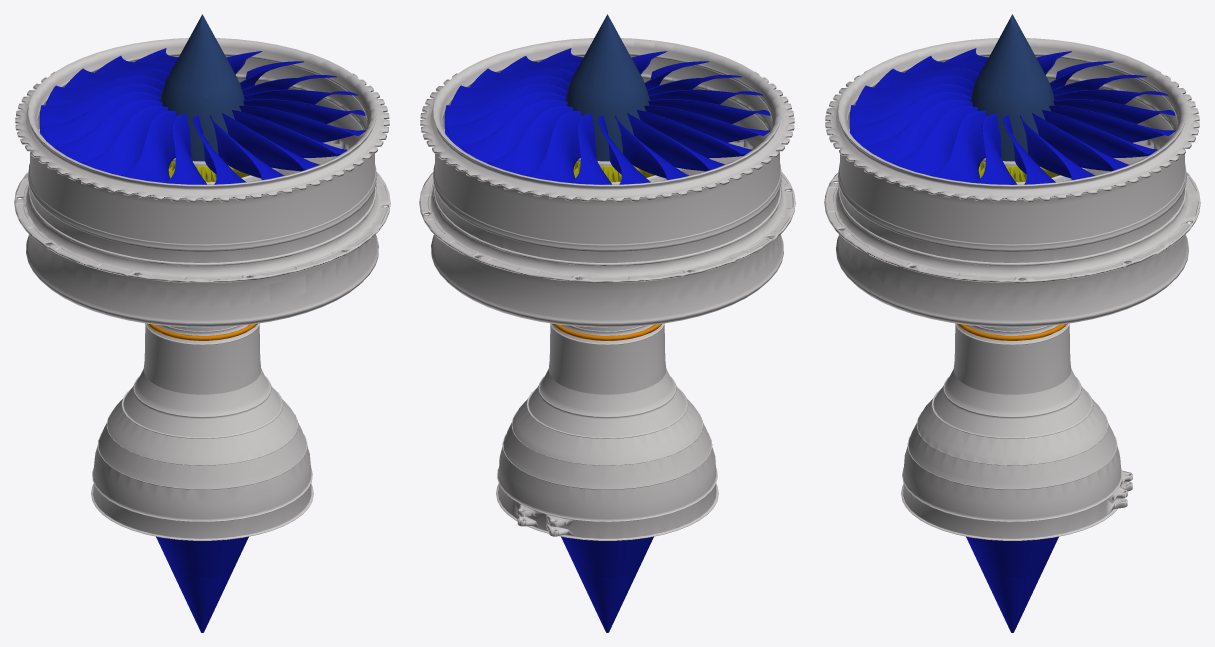
The model's file is Simplygon25.glb.
3 views of the same model, side by side, from view 1: azimuth 30°, elevation 25°; view 2: azimuth 150°, elevation 25°; view 3: azimuth 270°, elevation 25° (orthographic).
Visible parts, largest first — view 1: mmGroup20.001_LOD1, mmGroup8.001_LOD1, mmGroup10.001_LOD1, mmGroup6.001_LOD1, mmGroup0.001_LOD1; view 2: mmGroup20.001_LOD1, mmGroup8.001_LOD1, mmGroup10.001_LOD1, mmGroup6.001_LOD1, mmGroup0.001_LOD1; view 3: mmGroup20.001_LOD1, mmGroup8.001_LOD1, mmGroup10.001_LOD1, mmGroup6.001_LOD1, mmGroup0.001_LOD1.
Part boxes in pixels (x1,y1,x2,y2): mmGroup20.001_LOD1: [14, 38, 390, 540]; mmGroup8.001_LOD1: [39, 48, 365, 184]; mmGroup10.001_LOD1: [160, 14, 244, 161]; mmGroup6.001_LOD1: [156, 536, 248, 632]; mmGroup0.001_LOD1: [148, 323, 257, 340]; mmGroup20.001_LOD1: [419, 38, 795, 540]; mmGroup8.001_LOD1: [444, 48, 770, 184]; mmGroup10.001_LOD1: [565, 14, 649, 161]; mmGroup6.001_LOD1: [561, 536, 653, 632]; mmGroup0.001_LOD1: [552, 323, 661, 340]; mmGroup20.001_LOD1: [824, 38, 1200, 540]; mmGroup8.001_LOD1: [849, 48, 1175, 184]; mmGroup10.001_LOD1: [970, 14, 1054, 161]; mmGroup6.001_LOD1: [966, 536, 1058, 632]; mmGroup0.001_LOD1: [957, 323, 1067, 340].
Size of the model in its own units: 186 by 338 by 186.
